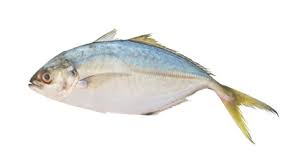Ikan Selar: (27, 39, 270, 119)
